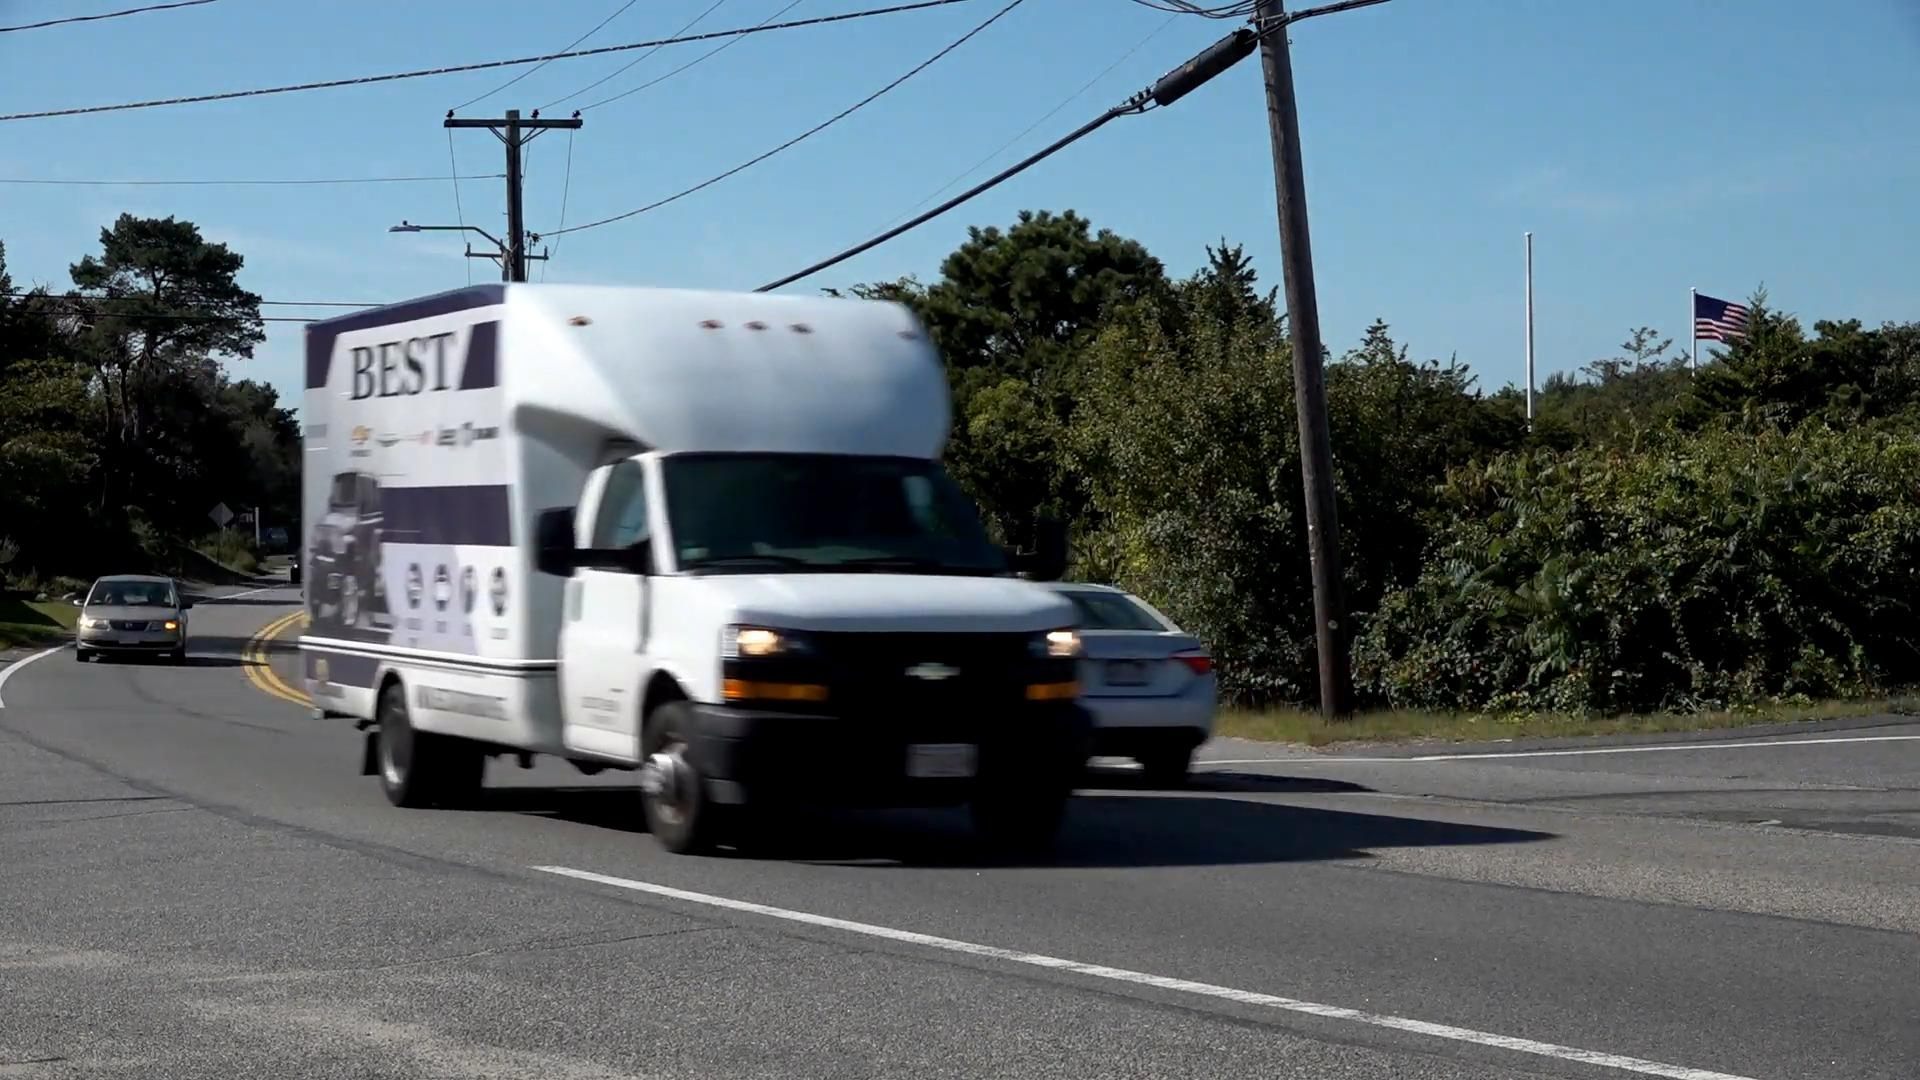sedans: (1013, 574, 1207, 775), (74, 574, 193, 662)
truck: (298, 284, 1095, 857)
